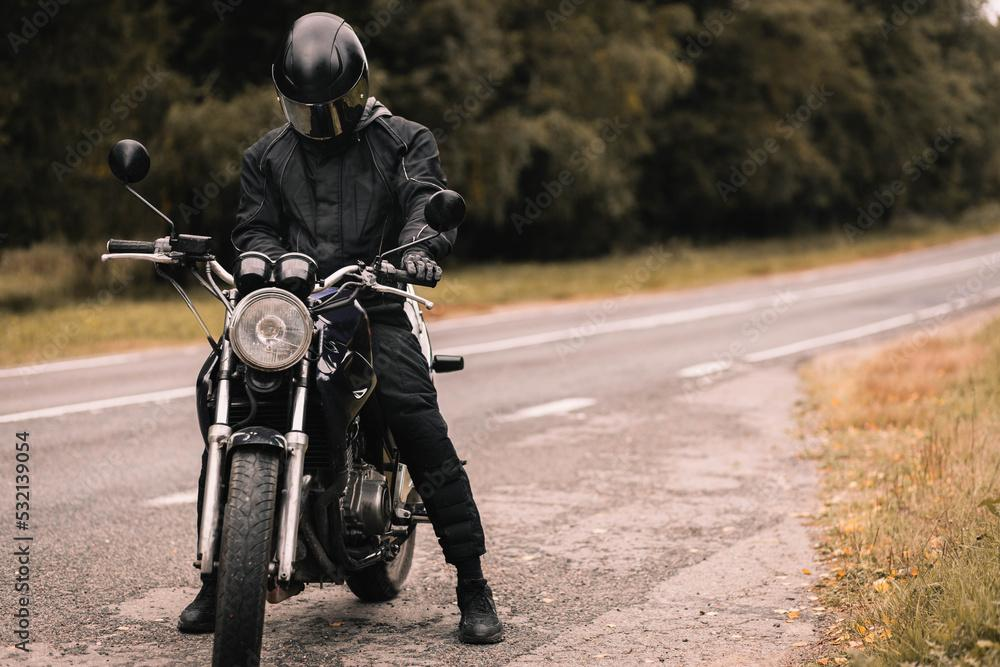helmet: (269, 9, 371, 152)
